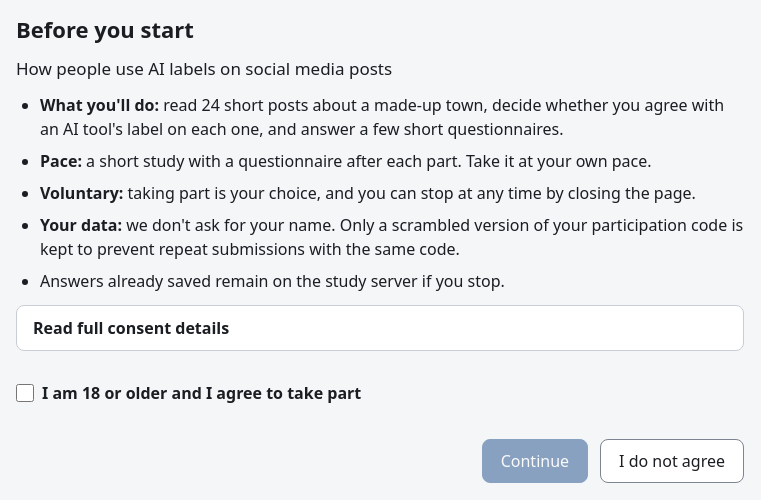
it: ConsentScreen › 'I do not agree' shows a thank-you, says the page can be closed, and records nothing
Click the button "I do not agree" at (672, 461), box [600,439,744,483]
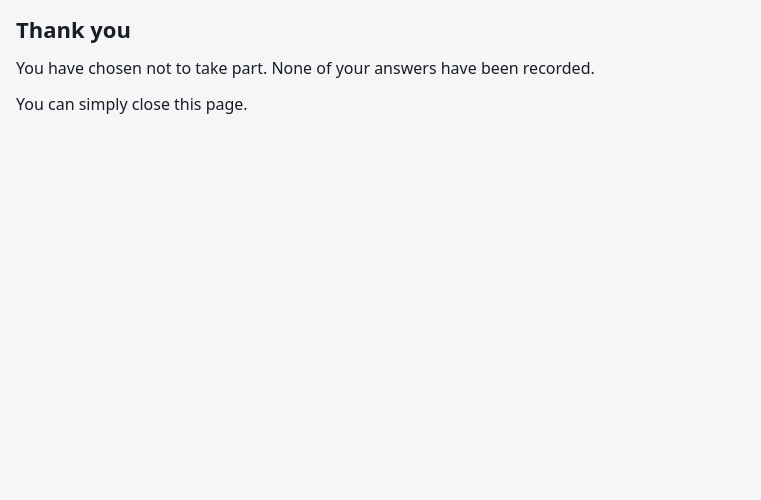
expect the heading "Thank you" is shown: met, box [16,14,131,44]
expect the text "You can simply close this page." is shown: met, box [16,92,248,114]
